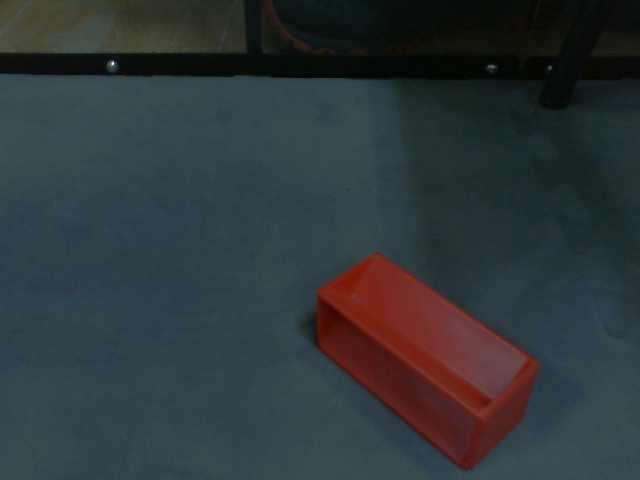RedSample: (313, 250, 542, 473)
